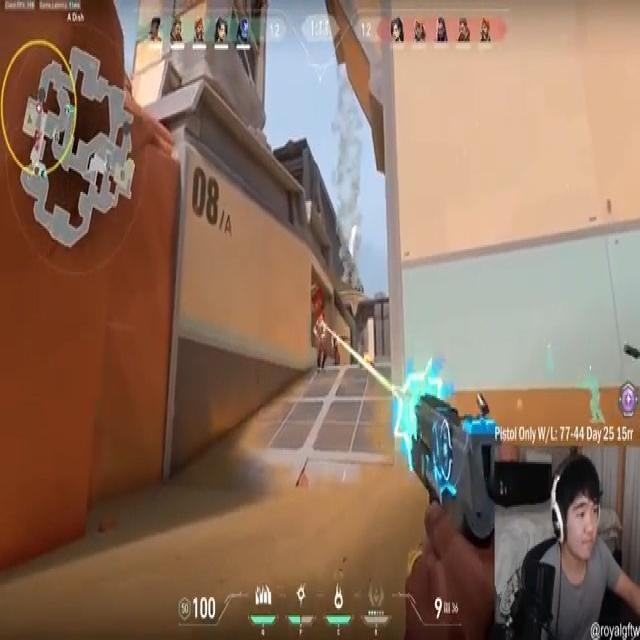enemy: (314, 313, 328, 373)
